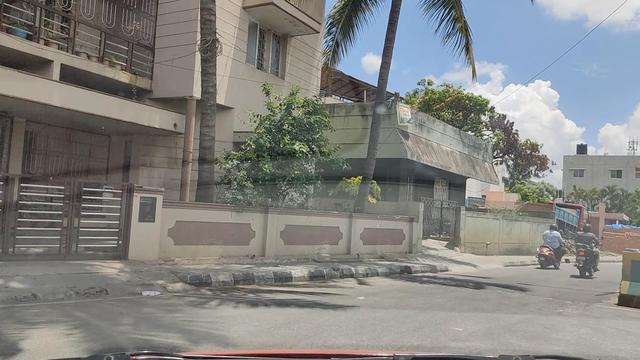RoadDamages: (551, 284, 604, 322)
